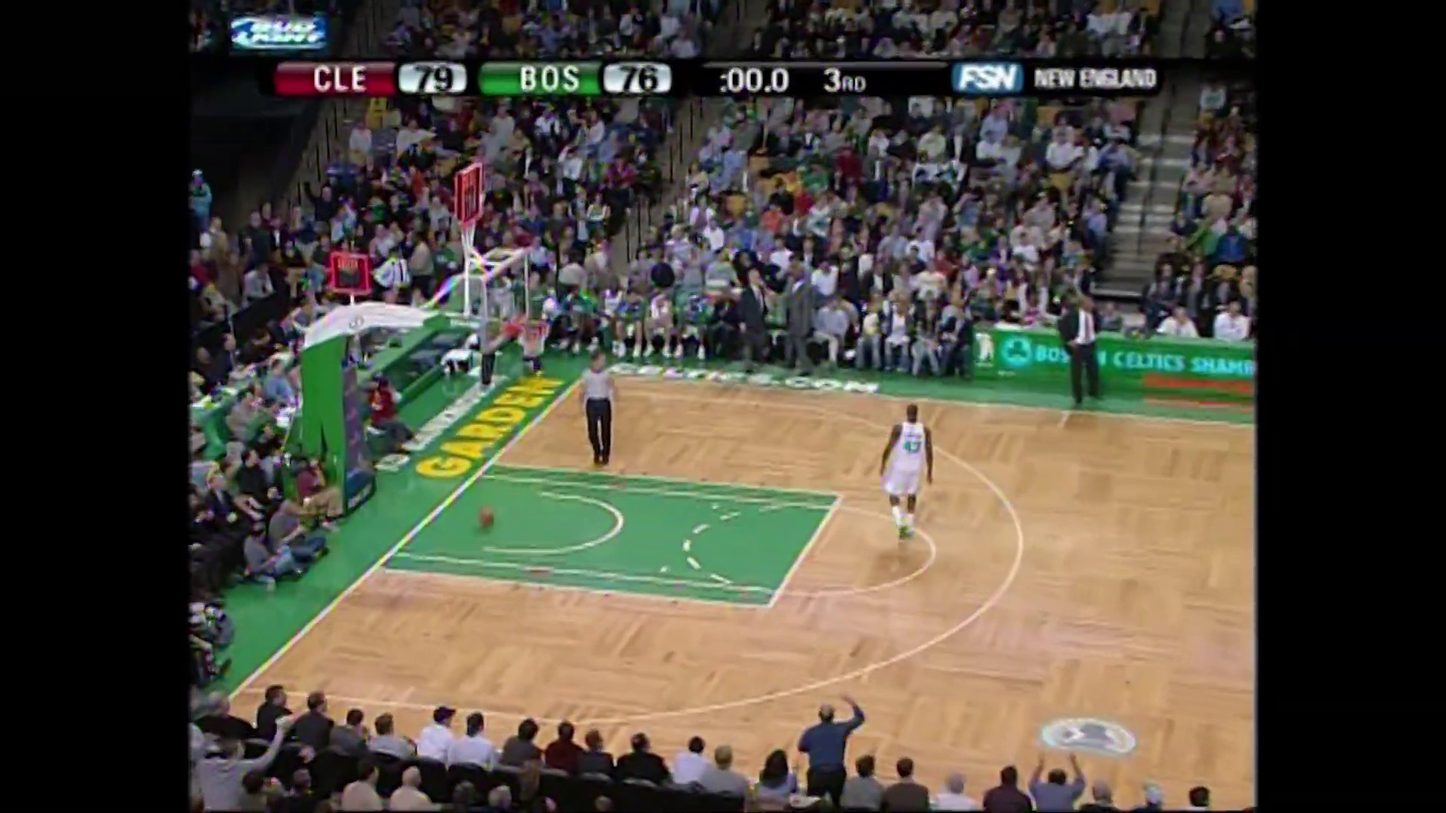basket_hoop: (431, 242, 582, 390)
